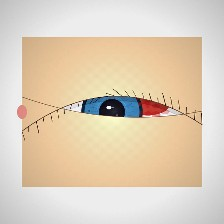hemorrhage_spot: (118, 81, 178, 129)
